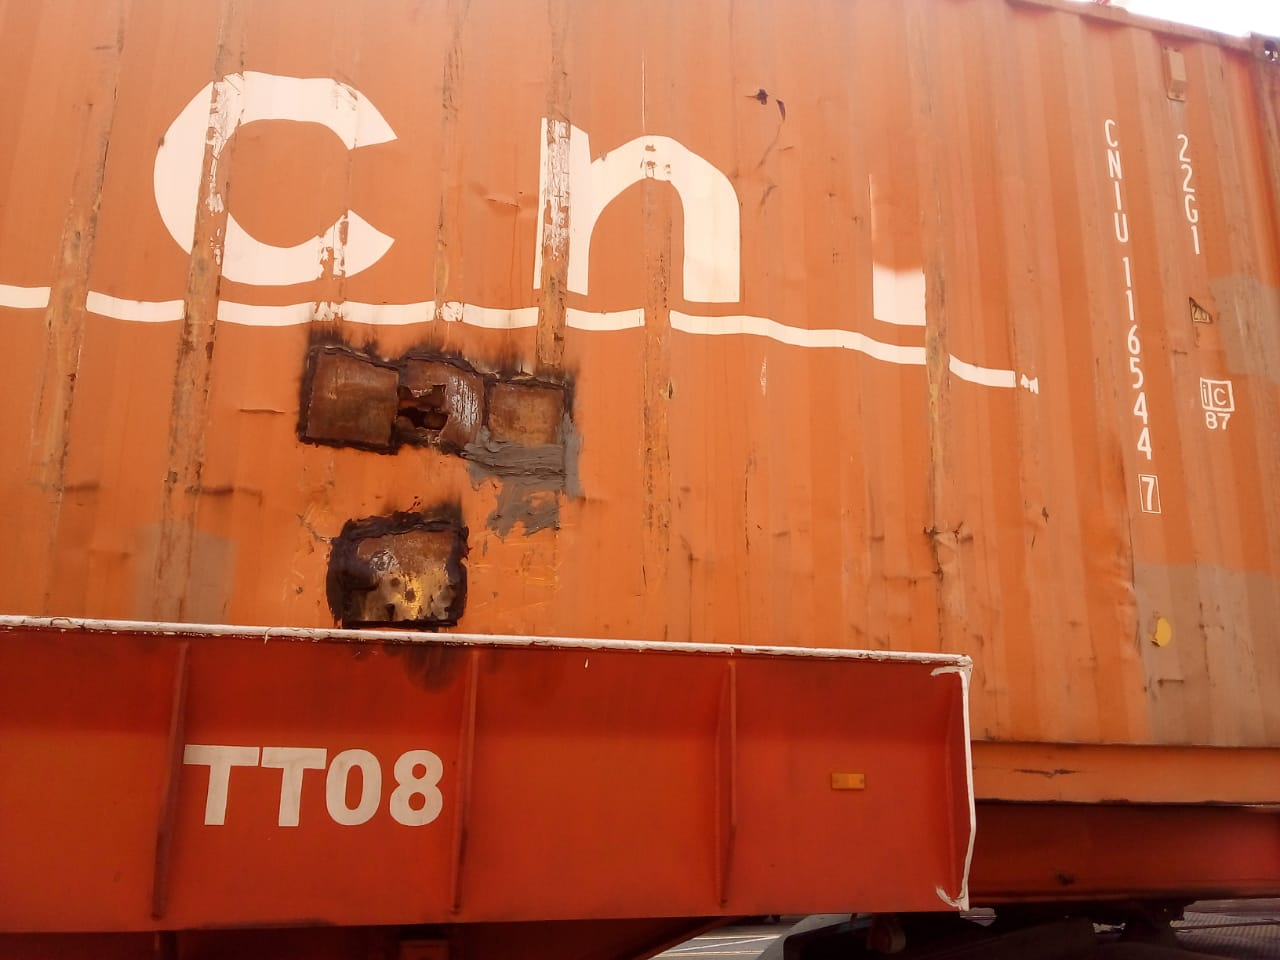cut: (294, 324, 612, 487), (334, 499, 510, 628)
